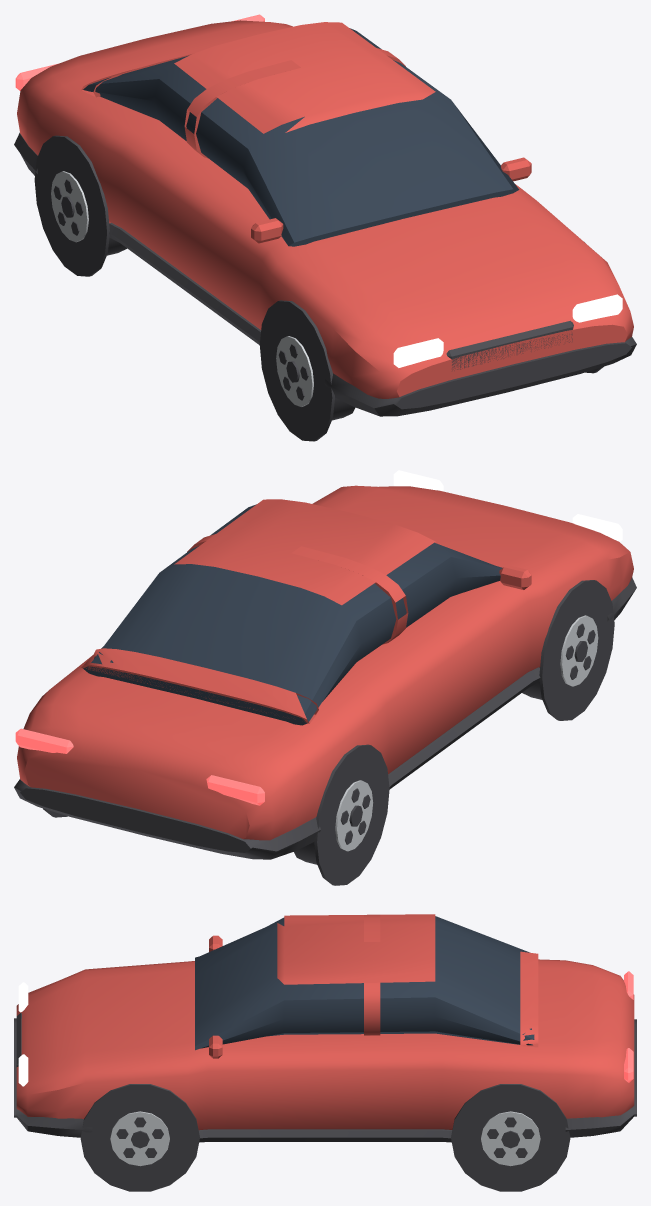
The model's file is car_sedan.glb.
3 views of the same model, one above another, from view 1: azimuth 30°, elevation 25°; view 2: azimuth 150°, elevation 25°; view 3: azimuth 270°, elevation 25° (orthographic). The views are drawn at different scales.
Parts seen in each view (by area): view 1: body, cabin, roof, bumperF, arch.003, arch.002, skirts, wheel_FR, wheel_RR, grille, pillarB, headlight.001 (+2 smaller); view 2: body, cabin, roof, bumperR, arch.002, arch.003, pillarC, skirts, wheel_RR, wheel_FR, pillarB, taillight.001 (+4 smaller); view 3: body, cabin, roof, arch.001, arch, skirts, wheel_FL, wheel_RL, pillarC, bumperF, bumperR, pillarB.
Boxes of the visible parts, x1,y1,x2,y2 form: body: (17, 20, 633, 398); cabin: (83, 28, 519, 246); roof: (174, 22, 435, 133); bumperF: (324, 337, 636, 416); arch.003: (34, 135, 109, 276); arch.002: (259, 300, 334, 441); skirts: (109, 222, 260, 344); wheel_FR: (276, 336, 355, 420); wheel_RR: (51, 171, 126, 255); grille: (446, 320, 573, 370); pillarB: (184, 48, 405, 158); headlight.001: (393, 338, 443, 367); body: (17, 485, 633, 840); cabin: (83, 504, 502, 725); roof: (174, 499, 435, 605); bumperR: (14, 779, 320, 859); arch.002: (539, 580, 614, 720); arch.003: (314, 744, 389, 885); pillarC: (81, 648, 318, 723); skirts: (388, 667, 540, 789); wheel_RR: (294, 780, 373, 864); wheel_FR: (522, 615, 598, 699); pillarB: (187, 534, 408, 644); taillight.001: (206, 775, 264, 805); body: (16, 959, 634, 1130); cabin: (195, 916, 534, 1050); roof: (277, 914, 435, 984); arch.001: (451, 1084, 570, 1191); arch: (80, 1084, 199, 1191); skirts: (198, 1129, 452, 1142); wheel_FL: (110, 1111, 169, 1166); wheel_RL: (481, 1111, 540, 1166); pillarC: (520, 951, 538, 1047); bumperF: (14, 1018, 92, 1137); bumperR: (565, 1019, 636, 1137); pillarB: (364, 914, 380, 1035).
Bounding box in the file's own units: 2.01 × 1.56 × 4.54.
